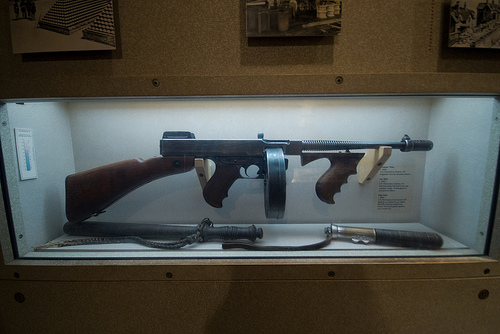rifle: (62, 128, 442, 219)
